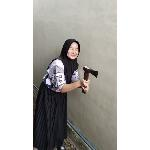Kapak: (82, 65, 100, 98)
